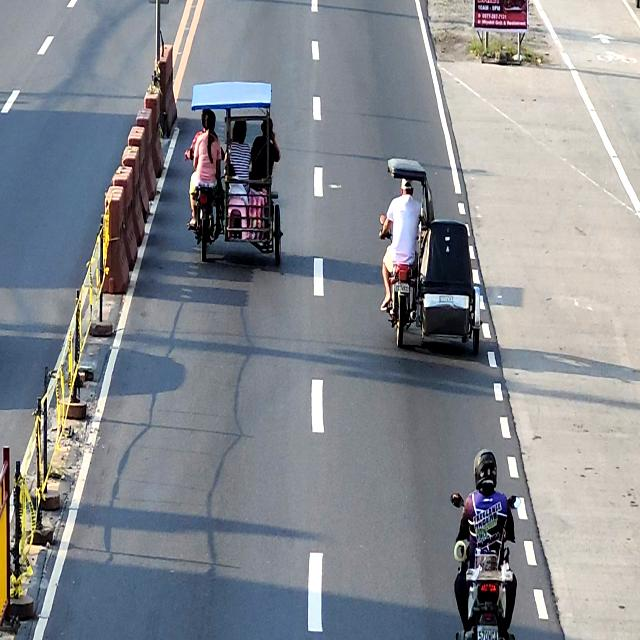License-Plate: (477, 624, 498, 640), (394, 281, 410, 293)
Motorcycle: (450, 491, 520, 640)
Tricycle: (380, 158, 483, 356), (187, 84, 284, 268)
